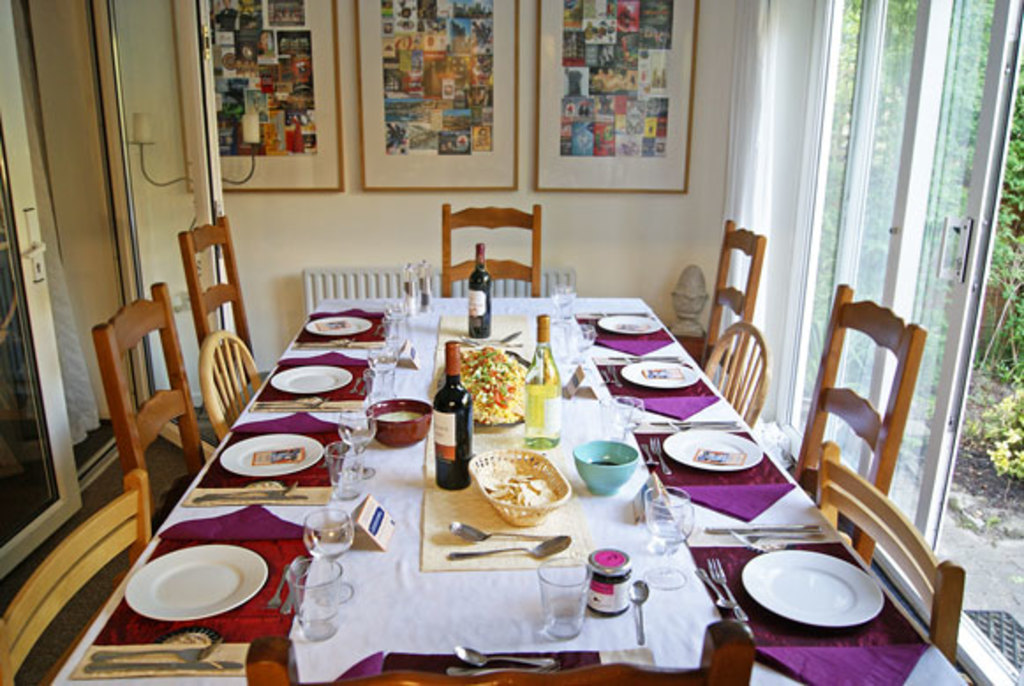plate: (727, 539, 898, 638), (125, 541, 273, 620)
